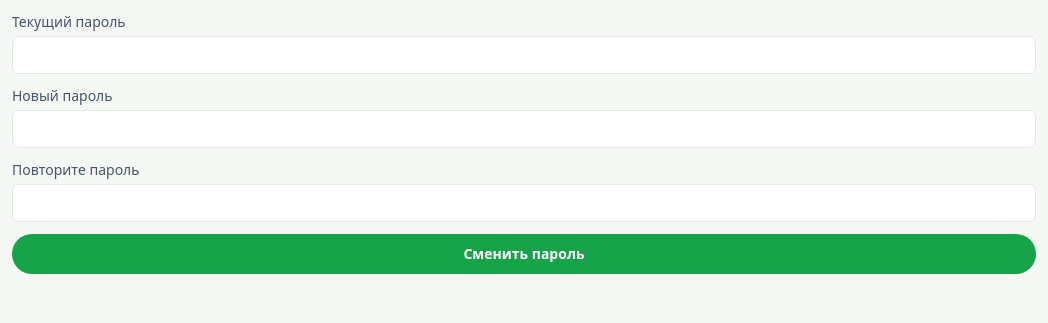
ChangePasswordForm › changes the password and signs in again with the new one
Type "initial password 1" into the password field named "current" at (524, 55), box left=12, top=36, right=1036, bottom=74
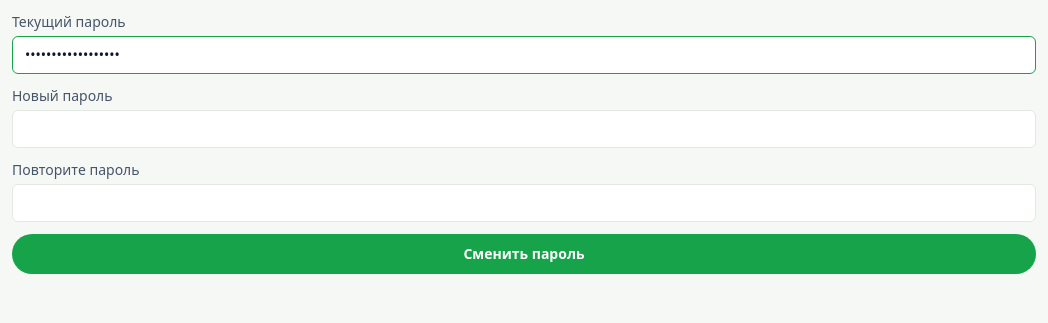
Type "brand new passphrase" into the password field named "next" at (524, 129), box left=12, top=110, right=1036, bottom=148
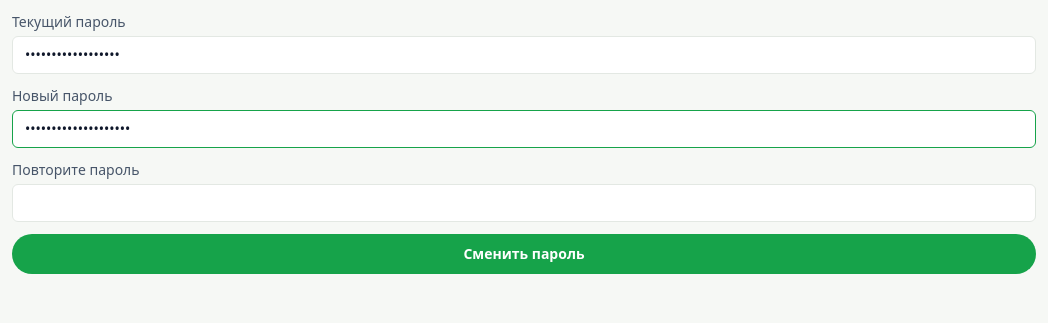
Type "brand new passphrase" into the password field named "repeat" at (524, 203), box left=12, top=184, right=1036, bottom=222
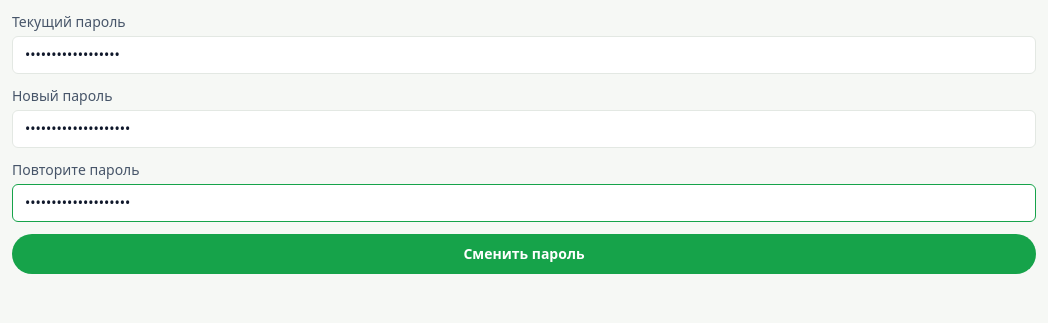
Click the button "Сменить пароль" at (524, 254), box left=12, top=234, right=1036, bottom=274
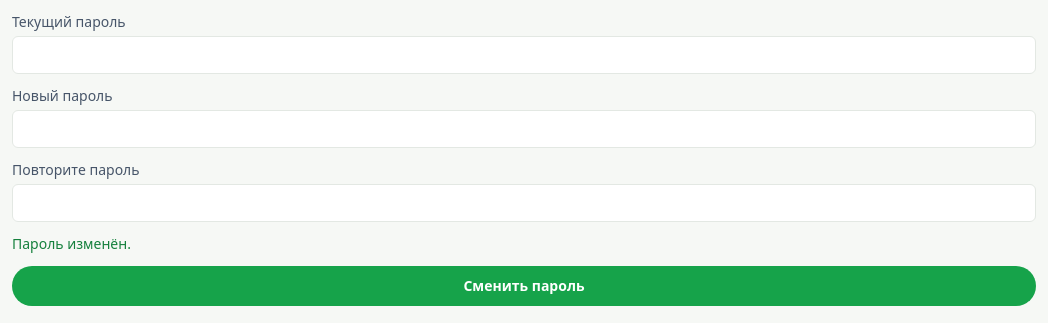
Now the message shows "Пароль изменён", box left=12, top=234, right=131, bottom=253
